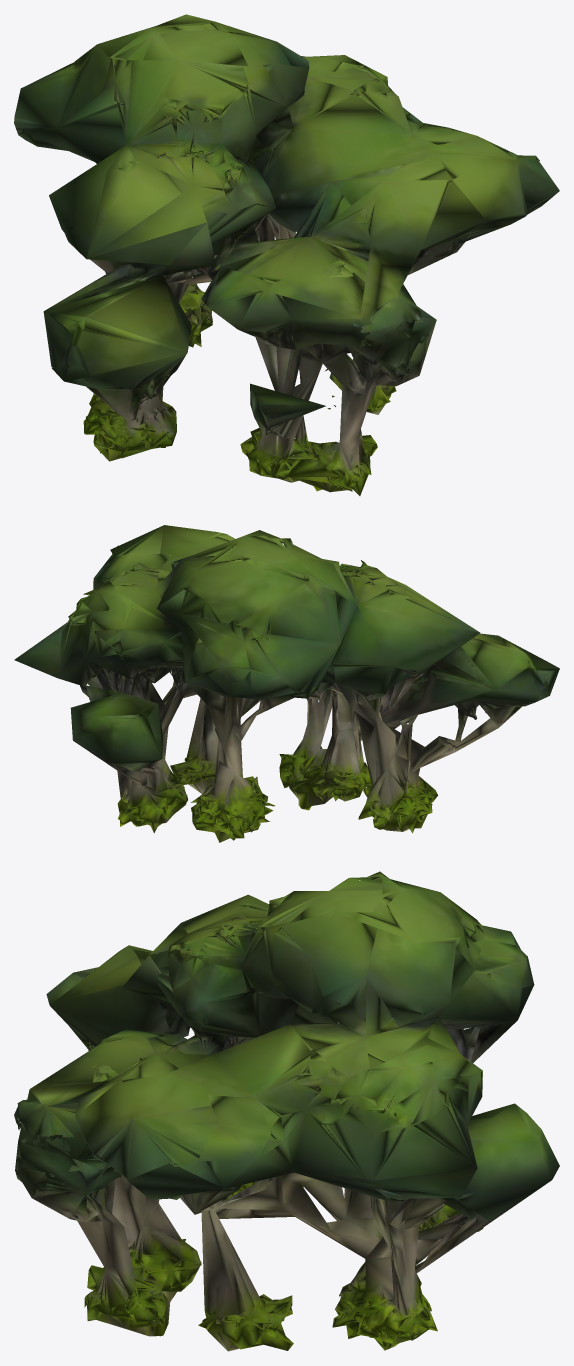
The model's file is forest_canopy.glb.
3 renders of one model, top to bottom at view 1: azimuth 30°, elevation 25°; view 2: azimuth 150°, elevation 25°; view 3: azimuth 270°, elevation 25°, orthographic. The views are drawn at different scales.
Bounding box in the file's own units: 4.02 × 3 × 3.52.
1 material, 1 textured.
